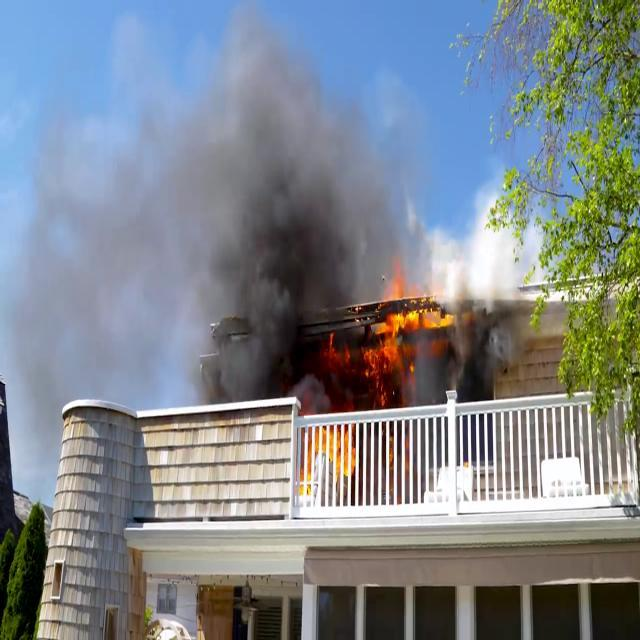Fire: (352, 274, 448, 389)
Smoke: (0, 41, 553, 406)
